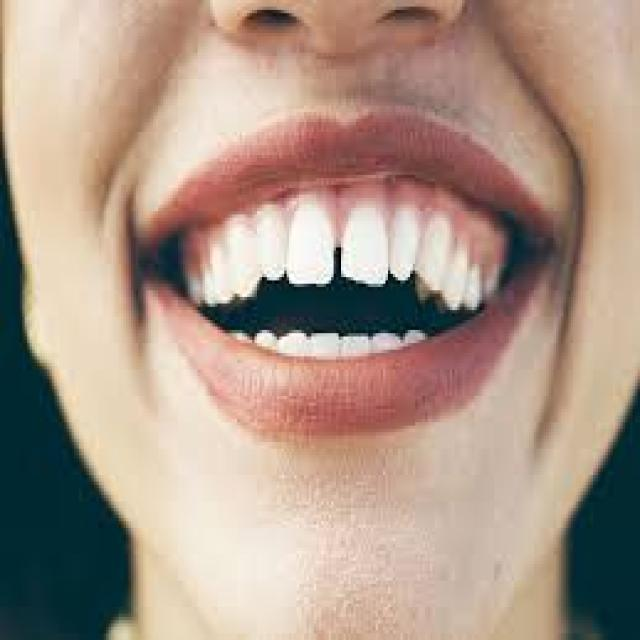tooth: (230, 214, 296, 300), (383, 195, 423, 287), (351, 201, 393, 287), (286, 204, 328, 280), (425, 208, 447, 294)
